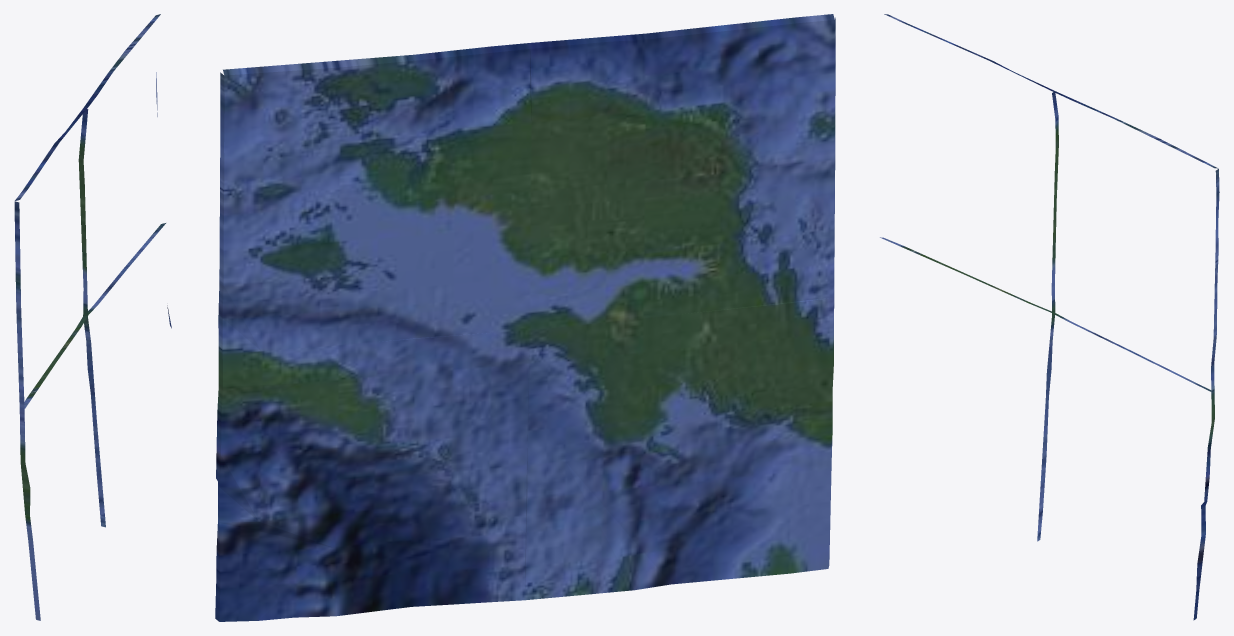
3 renders of one model, left to right at view 1: azimuth 30°, elevation 25°; view 2: azimuth 150°, elevation 25°; view 3: azimuth 270°, elevation 25°, orthographic. The views are drawn at different scales.
Size of the model in its own units: 494313 by 628193 by 452374.
1 material, 1 textured.
